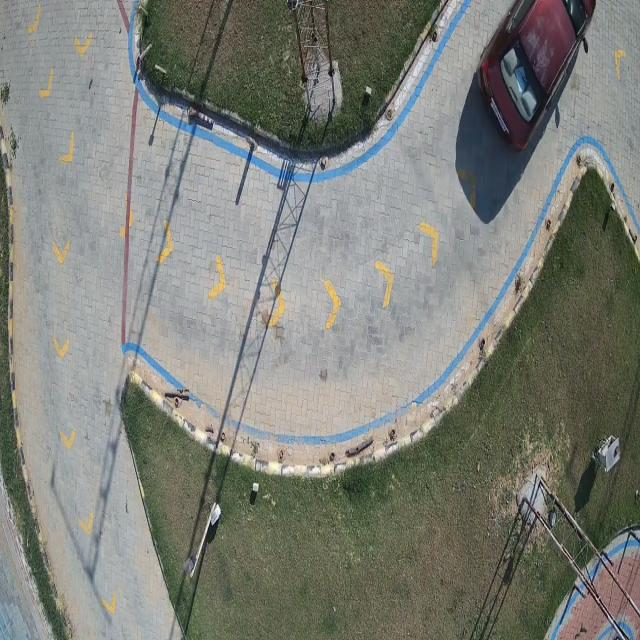car: (478, 0, 596, 149)
